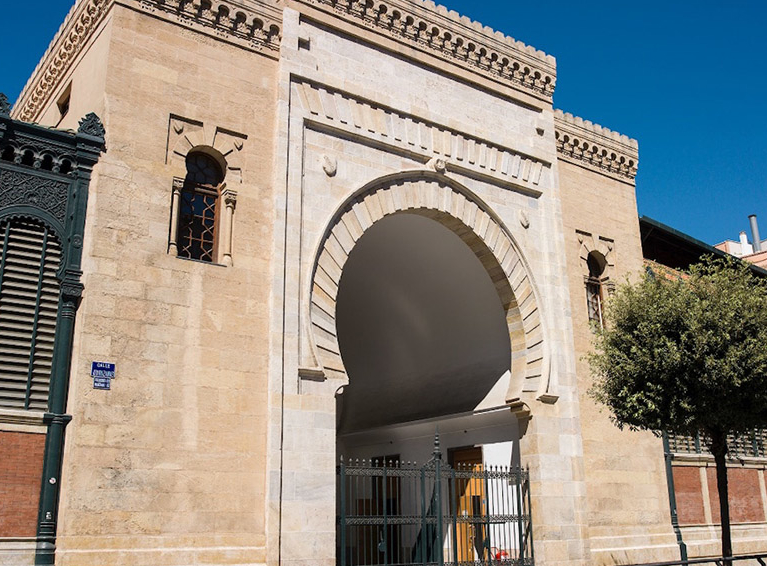arco-herradura: (307, 165, 551, 418), (168, 127, 246, 202)
dintel-adovelado: (294, 78, 545, 186)
